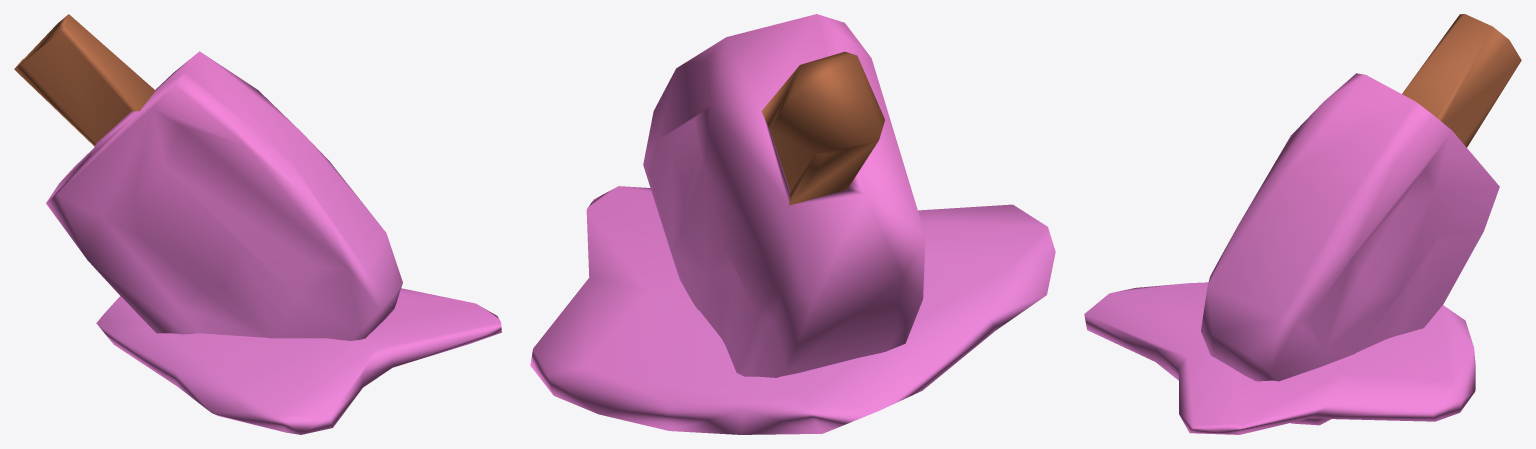
File: gelato_sciolto_rosa_LOD2.fbx
3 renders of one model, left to right at view 1: azimuth 30°, elevation 25°; view 2: azimuth 150°, elevation 25°; view 3: azimuth 270°, elevation 25°, orthographic. The views are drawn at different scales.
Parts seen in each view (by area): view 1: Cube_073; view 2: Cube_073; view 3: Cube_073.
Boxes of the visible parts, x1,y1,x2,y2 form: Cube_073: (14, 14, 501, 434); Cube_073: (530, 14, 1055, 434); Cube_073: (1084, 14, 1521, 434).
Size of the model in its own units: 38.61 by 36.87 by 43.02.
Materials: 1 (1 with a texture image).
